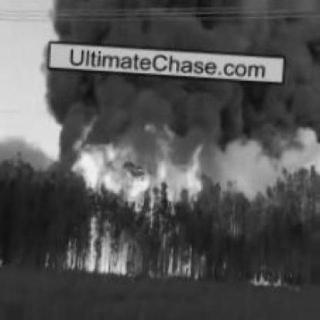Fire: (63, 108, 215, 282), (243, 268, 294, 291)
Smoke: (54, 7, 312, 133)
